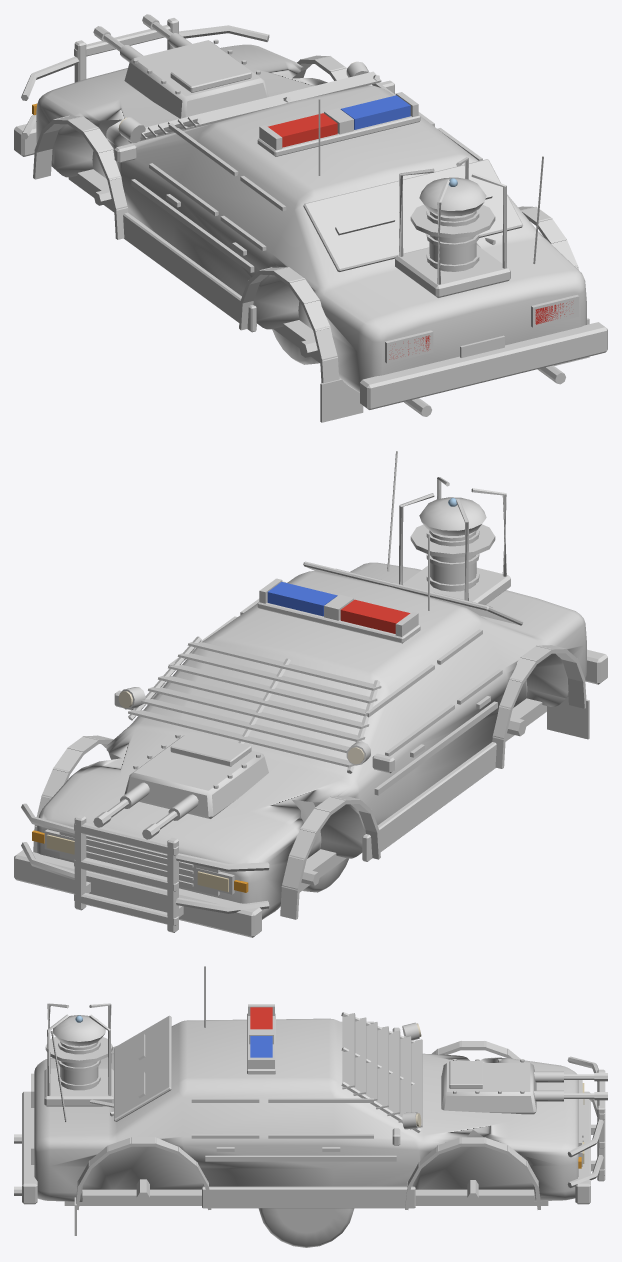
File: outlaw.glb
The picture shows the model from 3 angles, top to bottom: view 1: azimuth 30°, elevation 25°; view 2: azimuth 150°, elevation 25°; view 3: azimuth 270°, elevation 25°; orthographic projection. The views are drawn at different scales.
Visible parts, largest first — view 1: body; view 2: body; view 3: body, wheel_r.
Boxes of the visible parts, x1,y1,x2,y2 form: body: (14, 14, 607, 422); body: (14, 451, 607, 937); body: (14, 966, 607, 1235); wheel_r: (258, 1208, 354, 1247).
Size of the model in its own units: 2.28 by 2.5 by 5.28.
